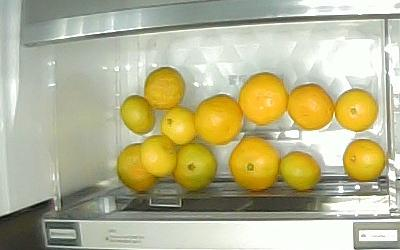tangerine: (230, 136, 280, 191), (238, 73, 289, 125), (193, 94, 242, 145), (288, 84, 334, 130), (172, 144, 217, 191), (116, 144, 159, 192), (334, 89, 378, 132), (144, 66, 186, 109), (344, 139, 385, 181), (280, 152, 322, 191), (141, 135, 176, 177), (121, 96, 155, 134), (161, 106, 195, 144)
